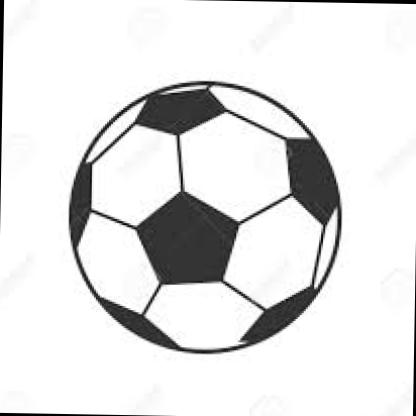ball: (67, 78, 348, 357)
